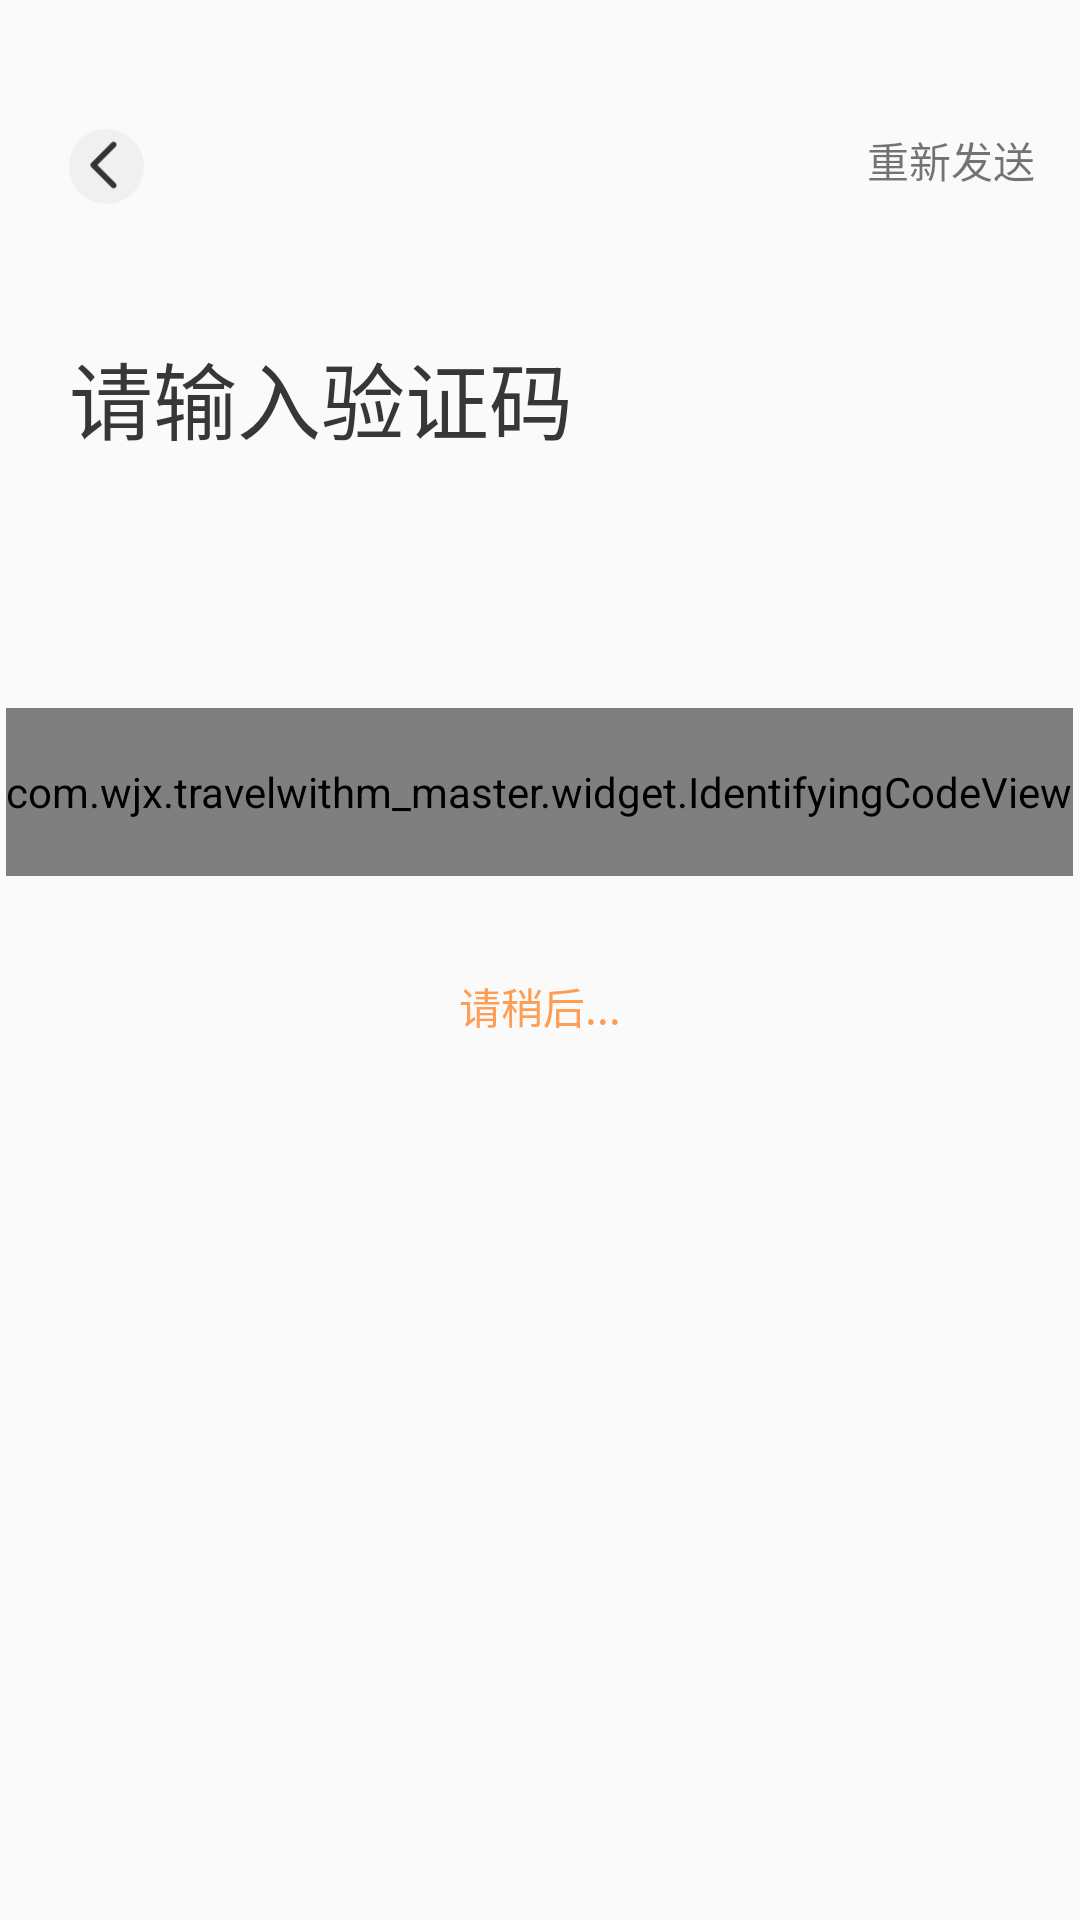

Screen size 1080px×1920px. Icon name, then its center in pixels as point (x, y):
back: point (106, 166)
